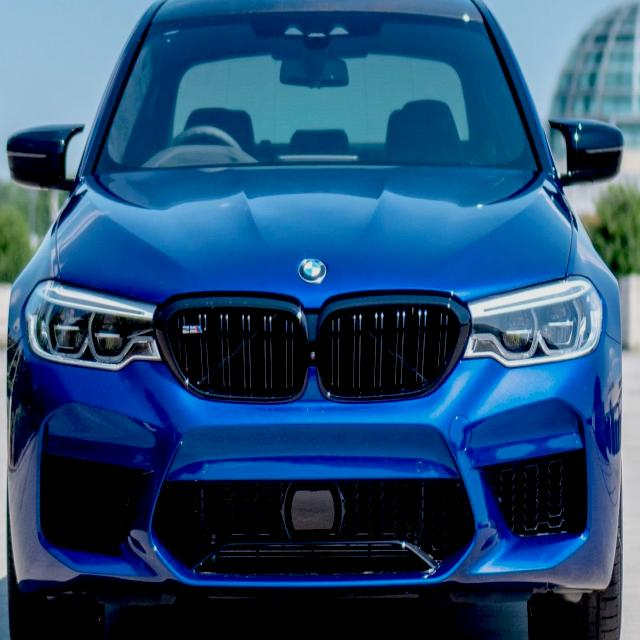blue: (8, 0, 624, 640)
